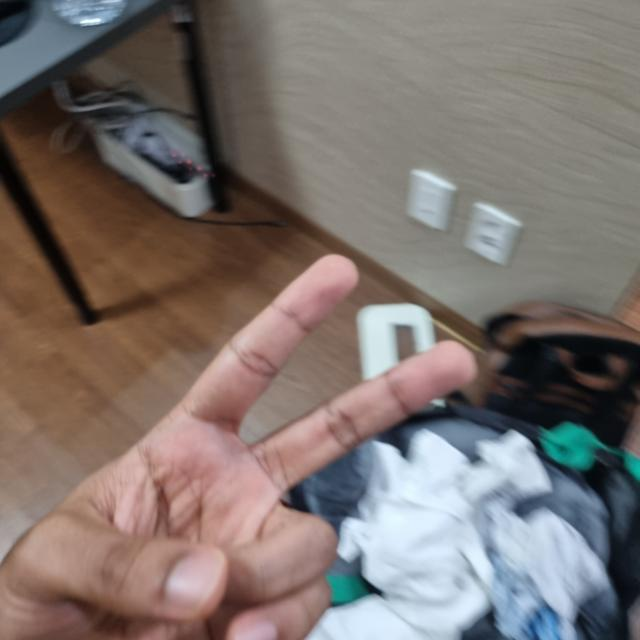Scissors: (0, 260, 473, 639)
